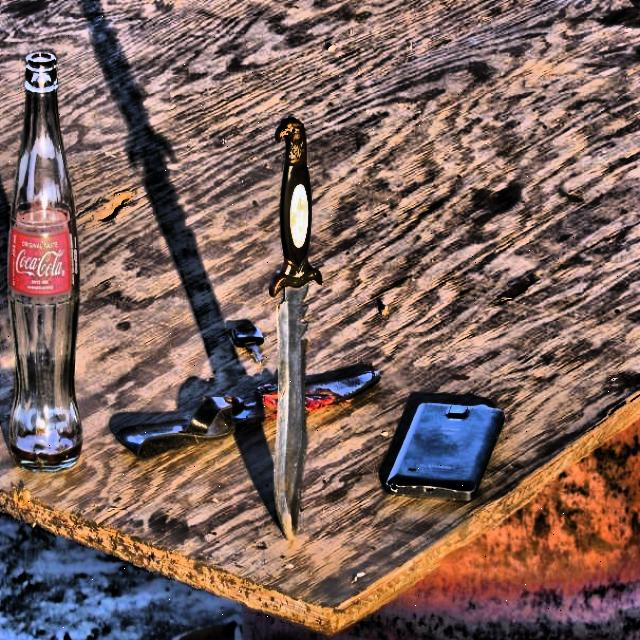knife: (270, 114, 319, 559)
